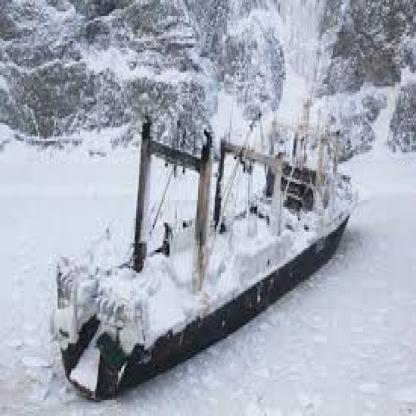fish-b: (49, 95, 369, 402)
